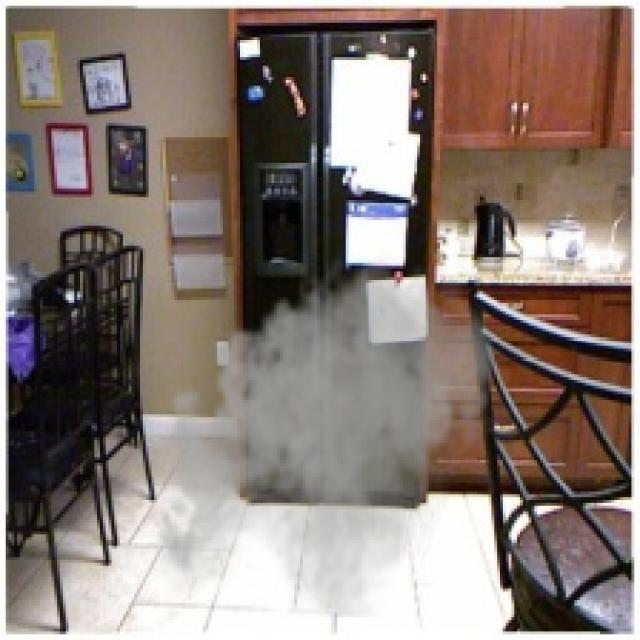smoke: (146, 249, 503, 617)
